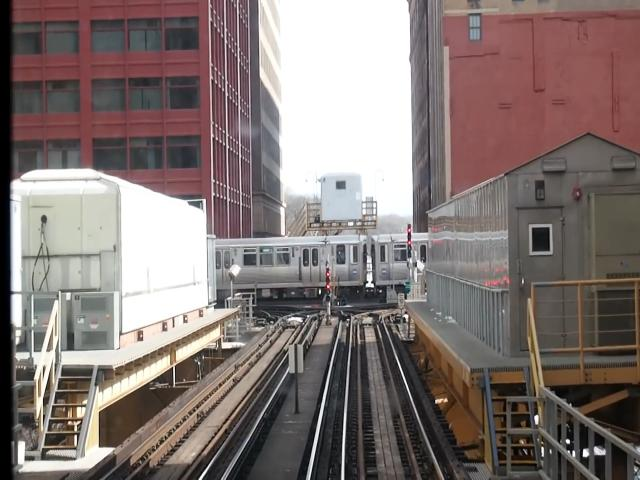signal light: (326, 267, 334, 307), (408, 223, 414, 260)
